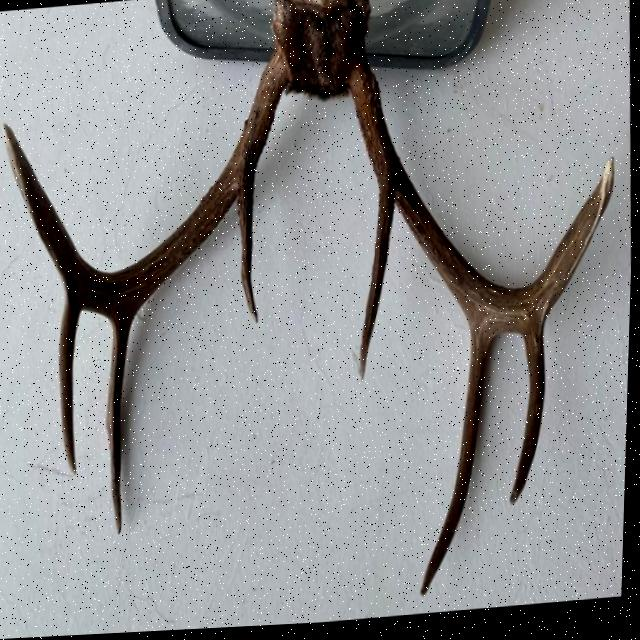L-F: (349, 55, 615, 338)
L-G1: (361, 181, 397, 388)
L-G2: (423, 333, 492, 602)
L-G3: (512, 332, 548, 512)
R-F: (3, 45, 290, 307)
R-G1: (238, 172, 260, 328)
R-G2: (108, 317, 136, 537)
R-G3: (60, 292, 82, 476)
